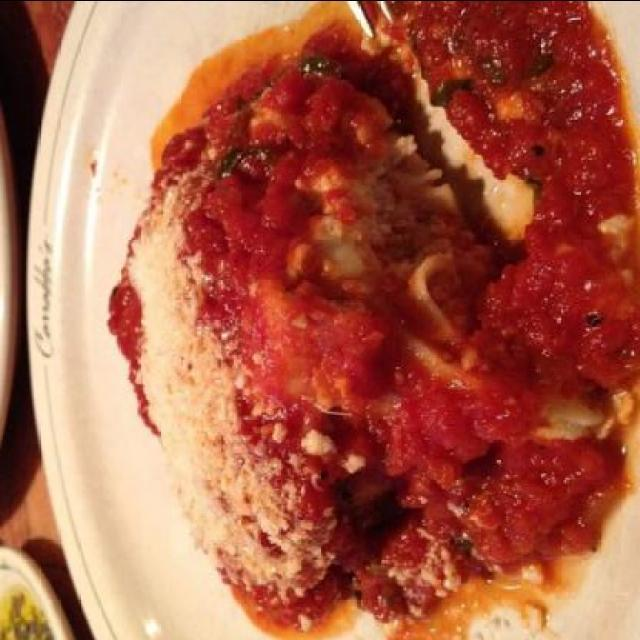Lasagna: (86, 26, 523, 602)
